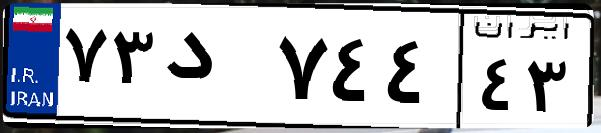3: (525, 38, 570, 115), (110, 28, 158, 98)
4: (385, 28, 445, 110), (330, 28, 385, 110), (475, 38, 525, 113)
7: (270, 28, 330, 110), (57, 26, 110, 100)
د: (158, 20, 270, 120)
